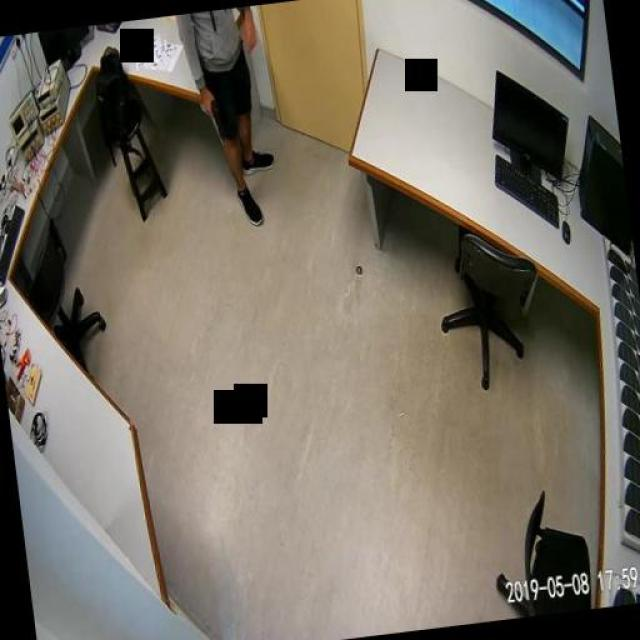gun: (200, 91, 222, 141)
